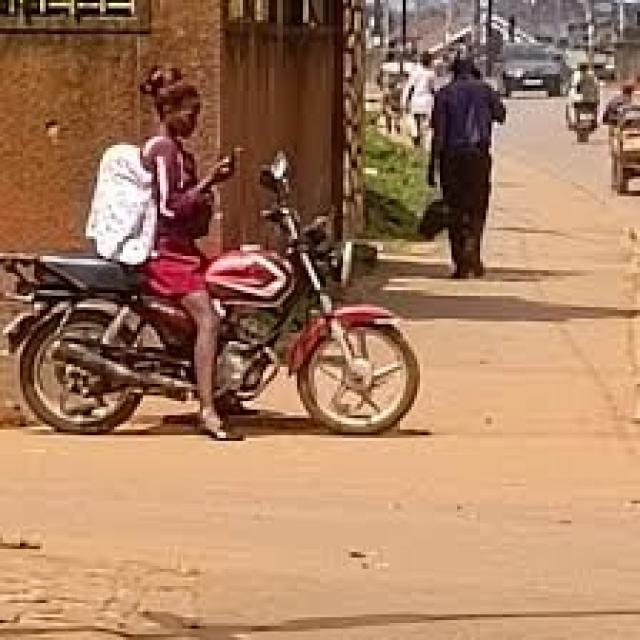bodaboda: (7, 144, 460, 488)
